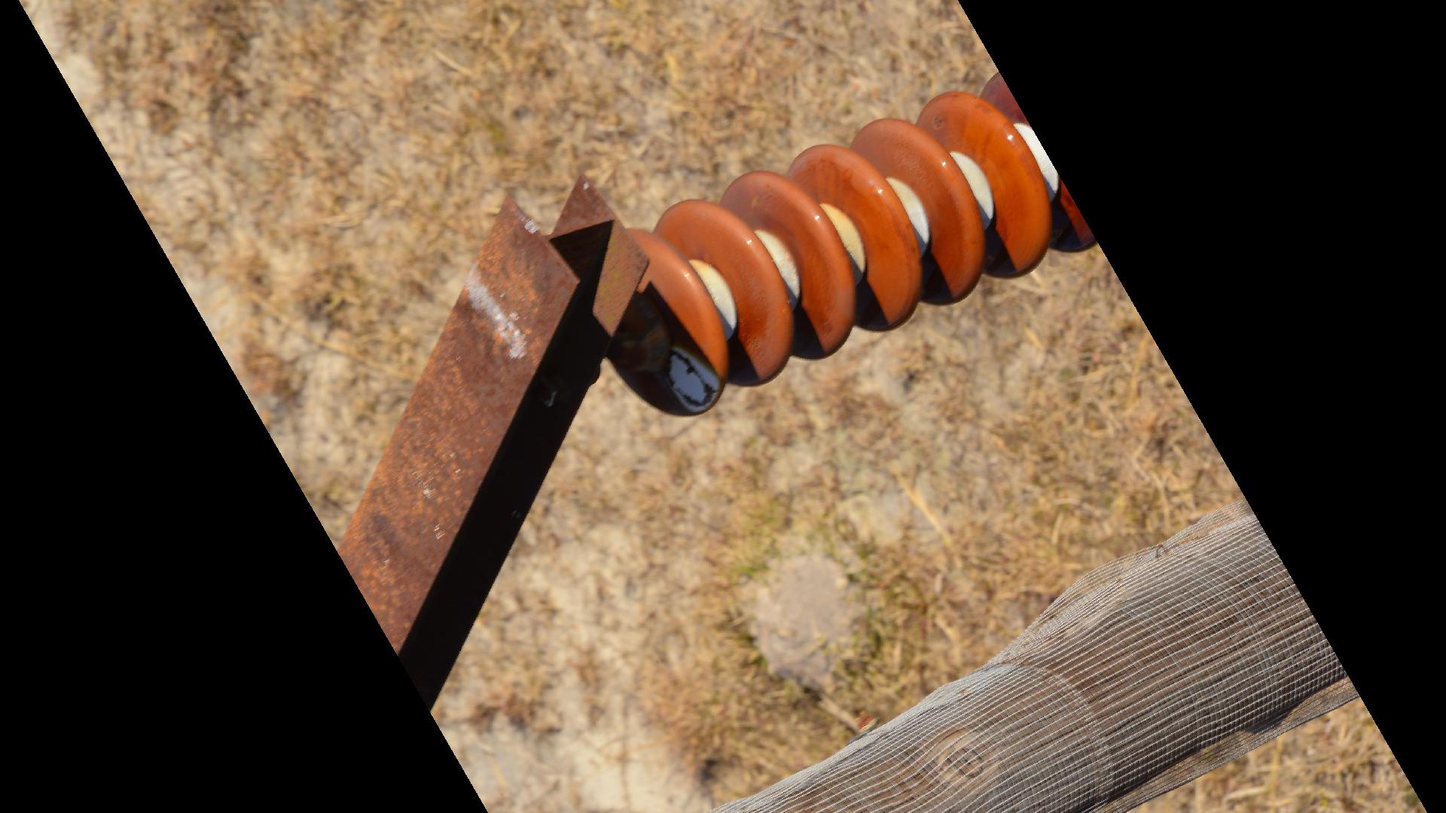insulator: (599, 69, 1101, 422)
insulator_flashover: (664, 343, 725, 418)
